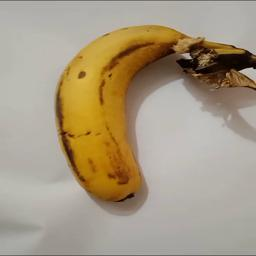Banana Semifresh: (52, 24, 255, 202)
